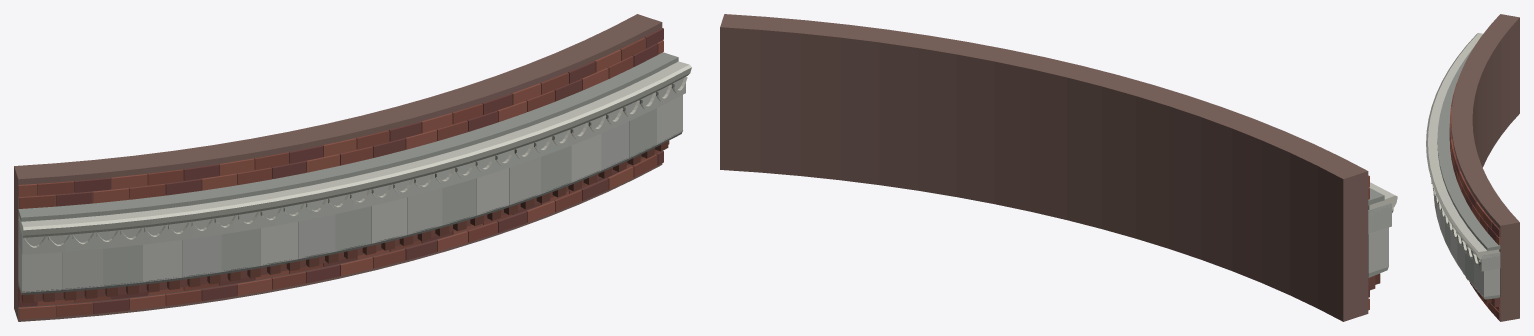
The model's file is huangpu-carlowitz-sichuan-curved-frieze-lod.glb.
3 views of the same model, side by side, from view 1: azimuth 30°, elevation 25°; view 2: azimuth 150°, elevation 25°; view 3: azimuth 270°, elevation 25° (orthographic). The views are drawn at different scales.
Visible parts, largest first — view 1: 礼和大楼弧形转角花饰腰线与砖齿; view 2: 礼和大楼弧形转角花饰腰线与砖齿; view 3: 礼和大楼弧形转角花饰腰线与砖齿.
Boxes of the visible parts, left/top/right/bottom form: 礼和大楼弧形转角花饰腰线与砖齿: left=14, top=14, right=691, bottom=321; 礼和大楼弧形转角花饰腰线与砖齿: left=720, top=14, right=1397, bottom=321; 礼和大楼弧形转角花饰腰线与砖齿: left=1426, top=14, right=1519, bottom=321.
Bounding box in the file's own units: 4.61 × 0.94 × 0.8323.
